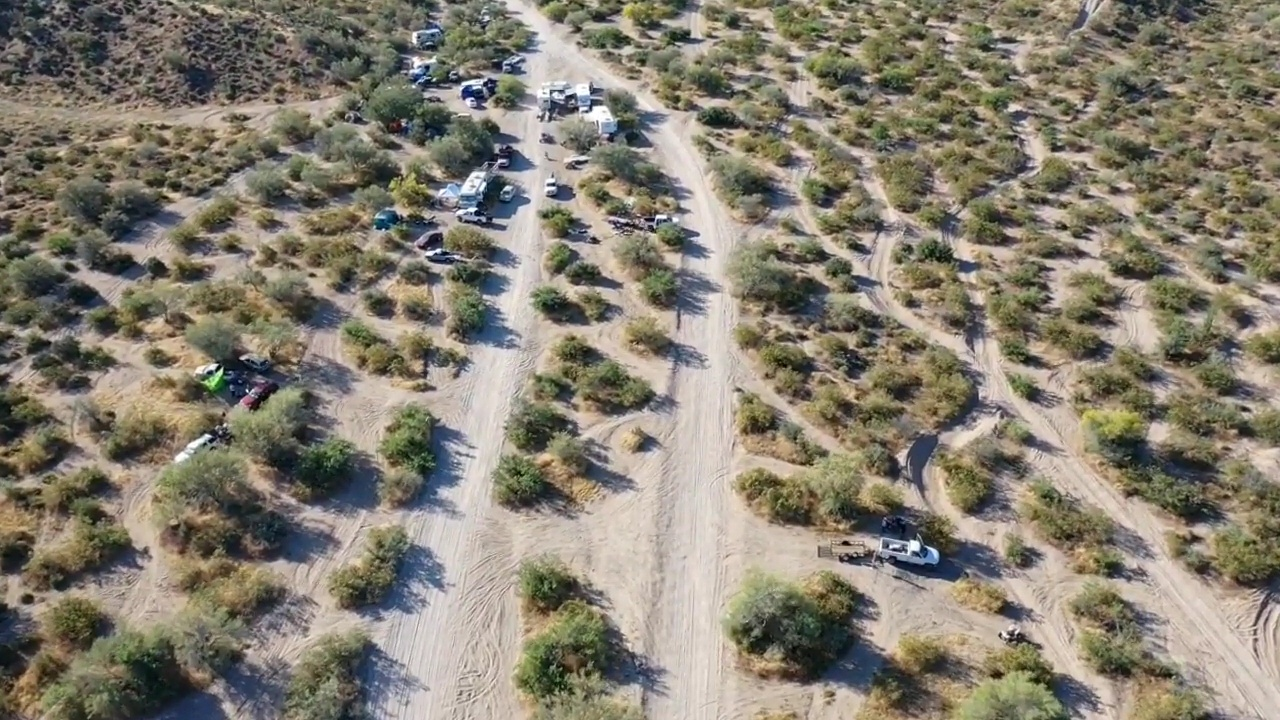araba: (239, 380, 277, 411), (237, 346, 270, 372), (455, 204, 493, 226), (498, 179, 519, 200), (544, 174, 559, 197), (464, 94, 477, 110)
kamyonet: (877, 535, 939, 567), (424, 249, 451, 261)
